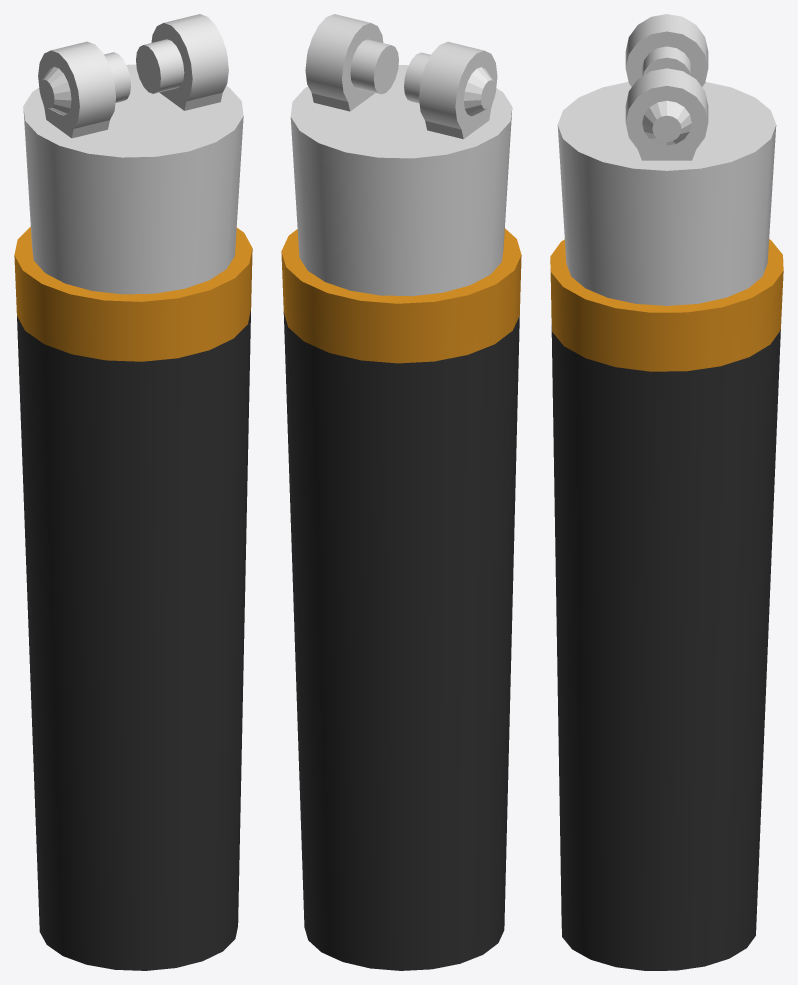
File: ZenyattaRightFoot2.fbx
3 views of the same model, side by side, from view 1: azimuth 30°, elevation 25°; view 2: azimuth 150°, elevation 25°; view 3: azimuth 270°, elevation 25° (orthographic).
Visible parts, largest first — view 1: pPipe32; view 2: pPipe32; view 3: pPipe32.
Part boxes in pixels (bbox=[...]): pPipe32: bbox=[14, 14, 252, 970]; pPipe32: bbox=[281, 14, 521, 970]; pPipe32: bbox=[550, 14, 783, 970].
Size of the model in its own units: 5.15 by 21.42 by 5.15.
